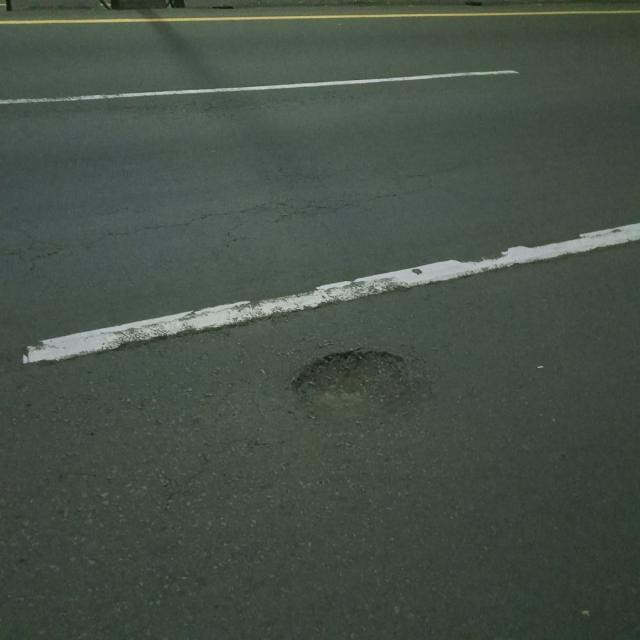Buraco: (286, 346, 414, 426)
